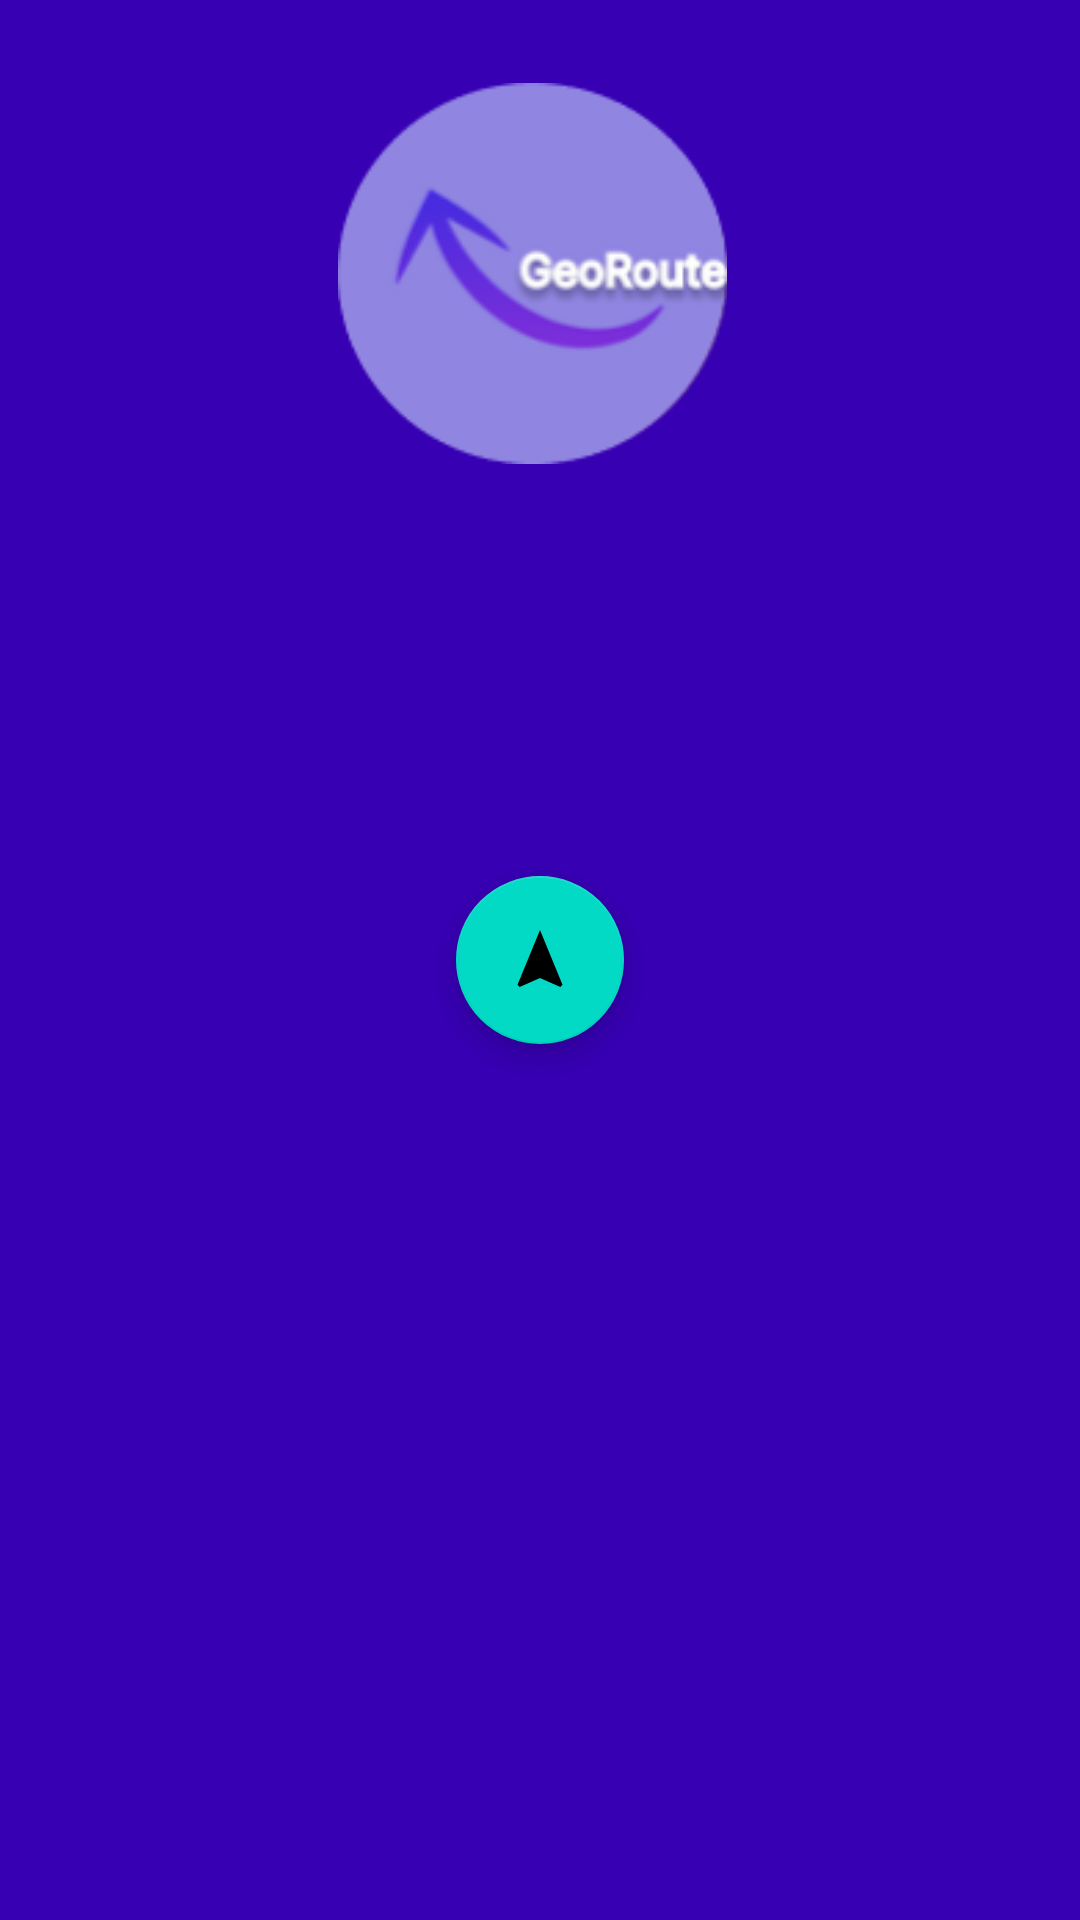

Icon bounding boxes for this 1080px×1920px phone screenshot, format box(x1, y1, x2, y2):
navigation: box(456, 876, 624, 1044)
